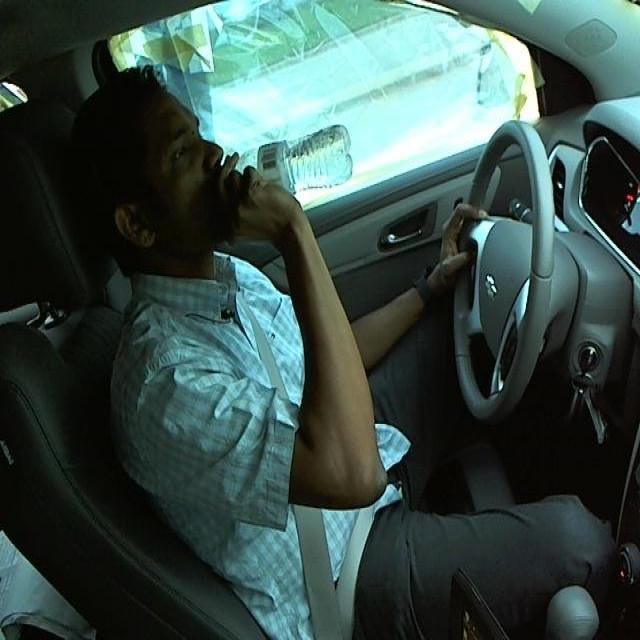drinking: (215, 122, 357, 184)
